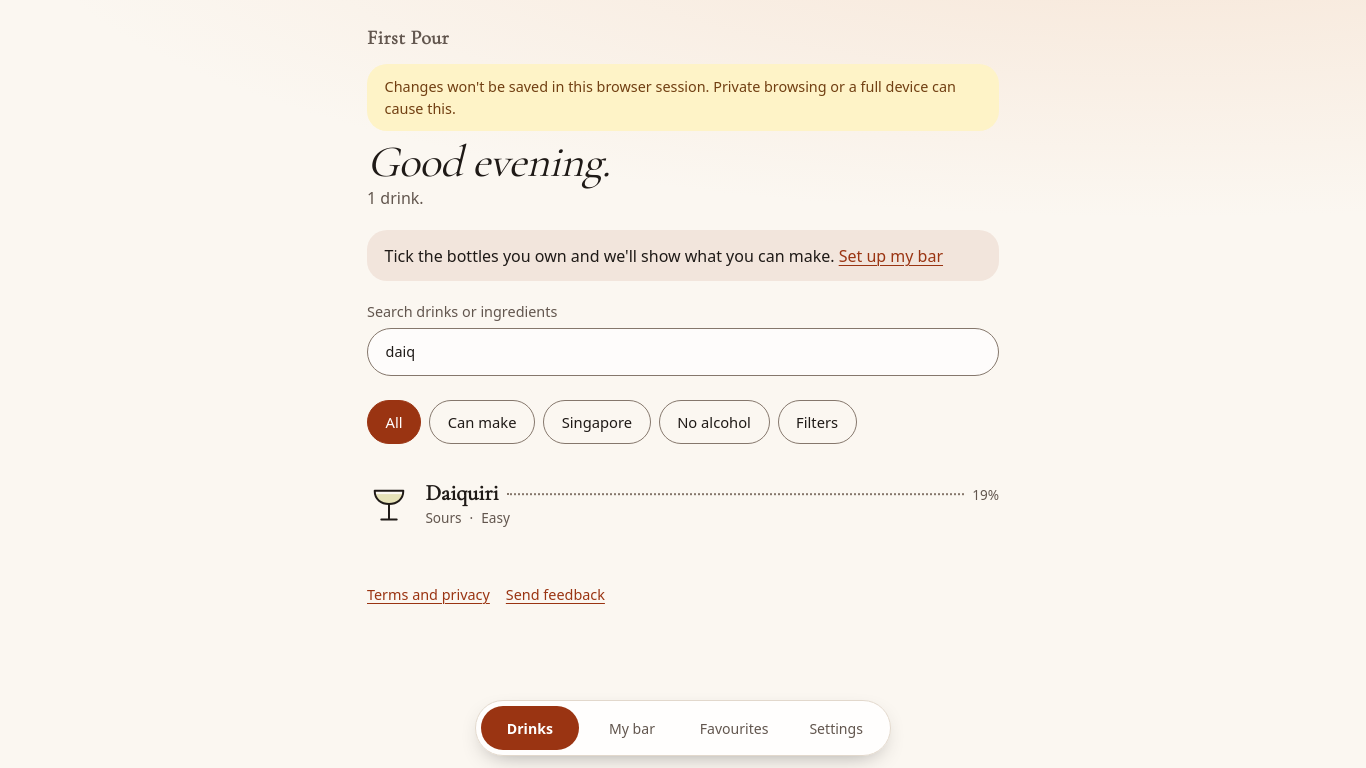
Test: Back returns from a drink to the list it was opened from, filters included
Step 1. Click the link "Daiquiri 19% Sours Easy" → (389, 504), box left=367, top=468, right=999, bottom=540
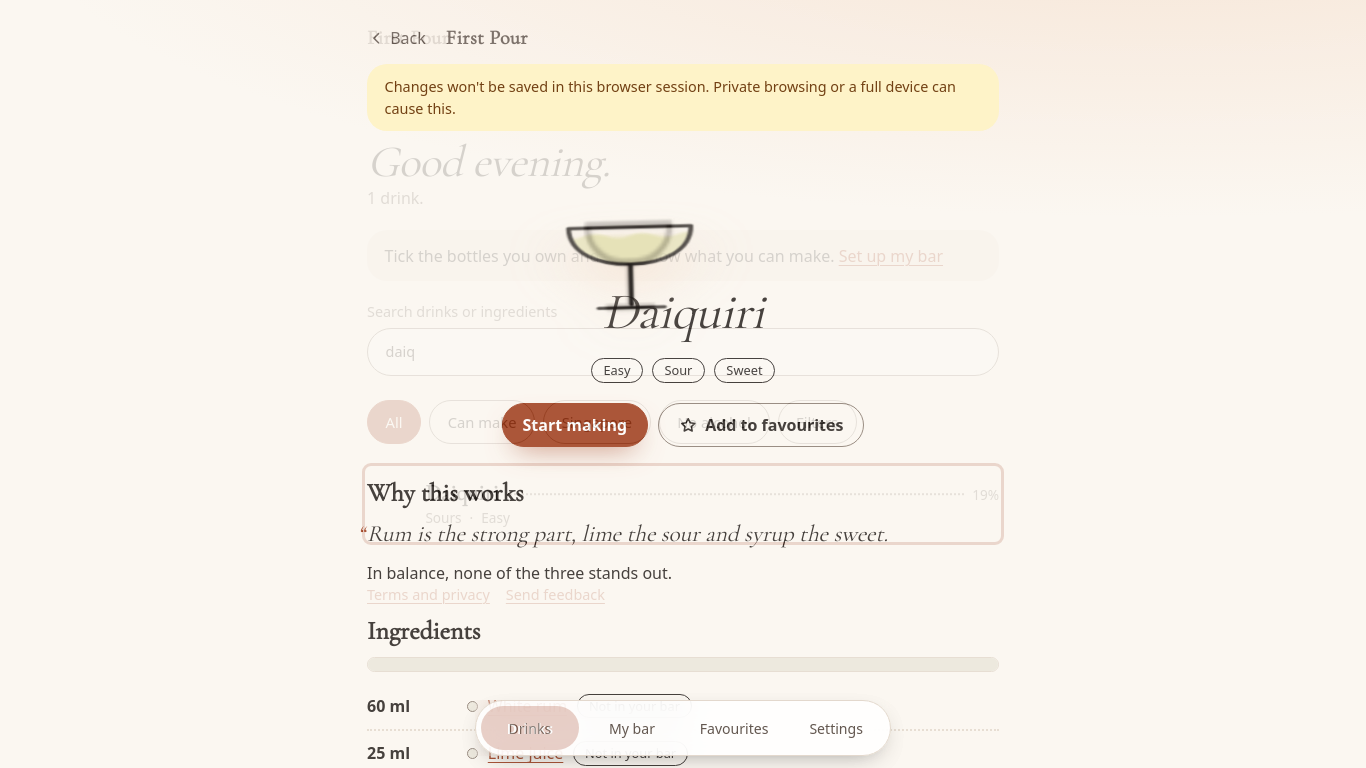
Expected: the heading "Daiquiri" is shown, left=602, top=287, right=764, bottom=338
Step 2. Click the button "Back" → (398, 38), box left=367, top=16, right=430, bottom=60
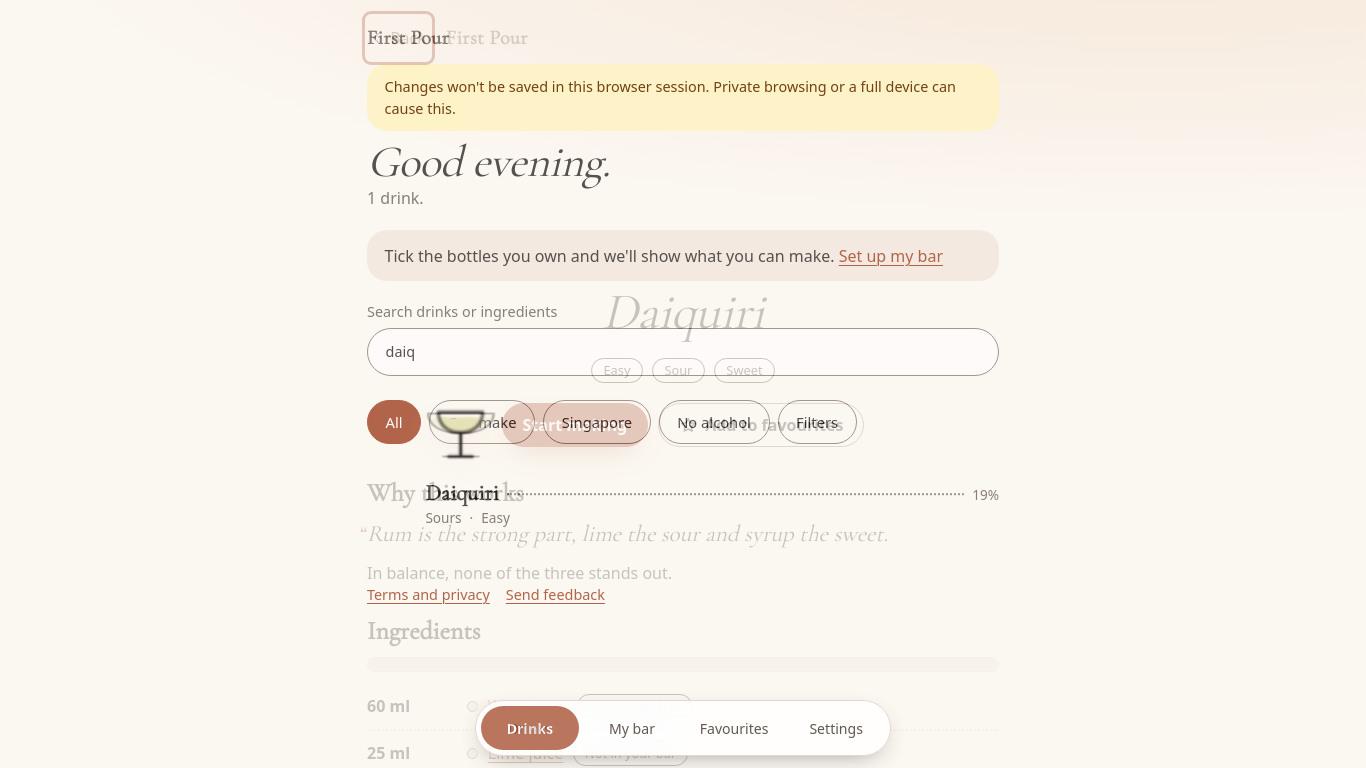
Now the search field labelled "Search drinks or ingredients" holds "daiq", box left=367, top=328, right=999, bottom=376
